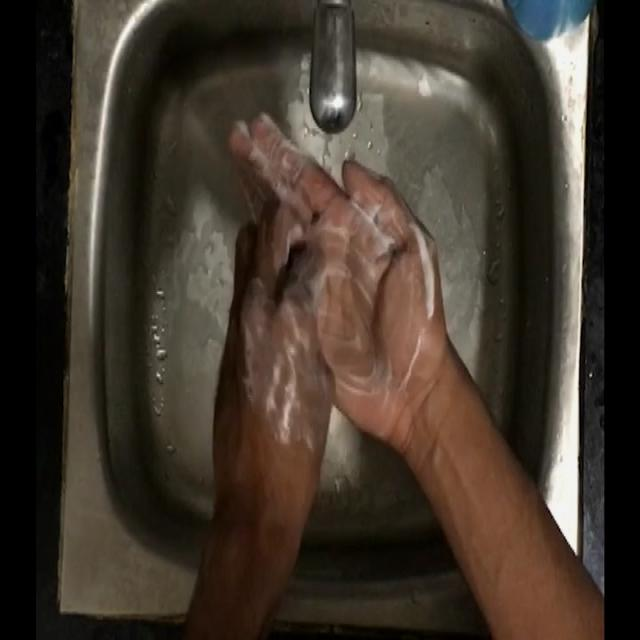step_6: (209, 104, 446, 468)
